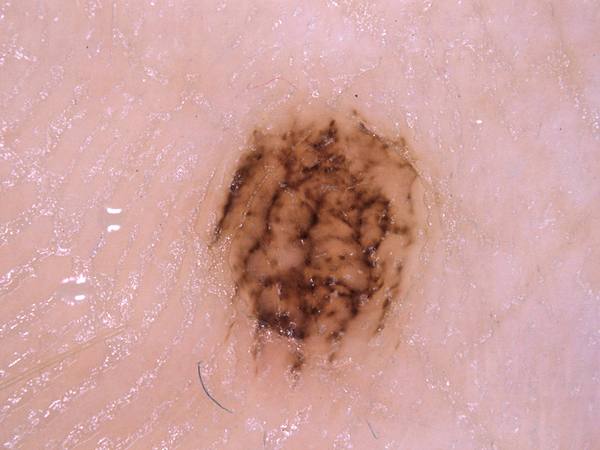Detected Lesion: (198, 108, 436, 383)
